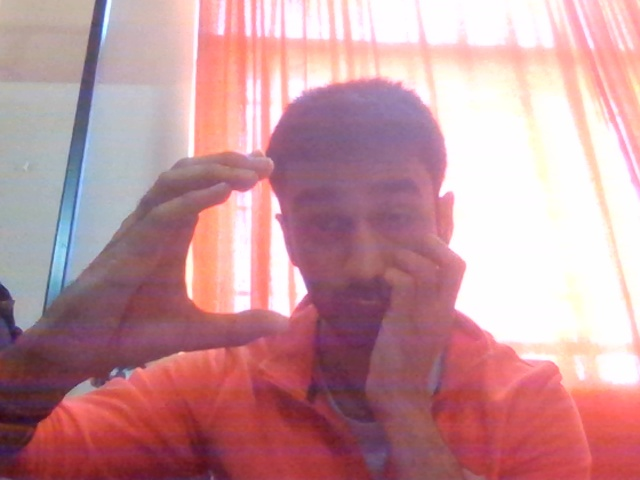C: (31, 122, 295, 420)
